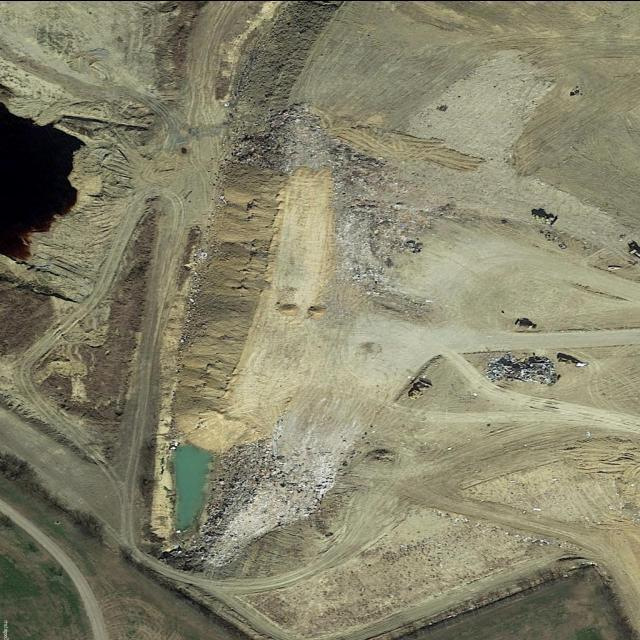dump_site: (483, 355, 559, 385)
